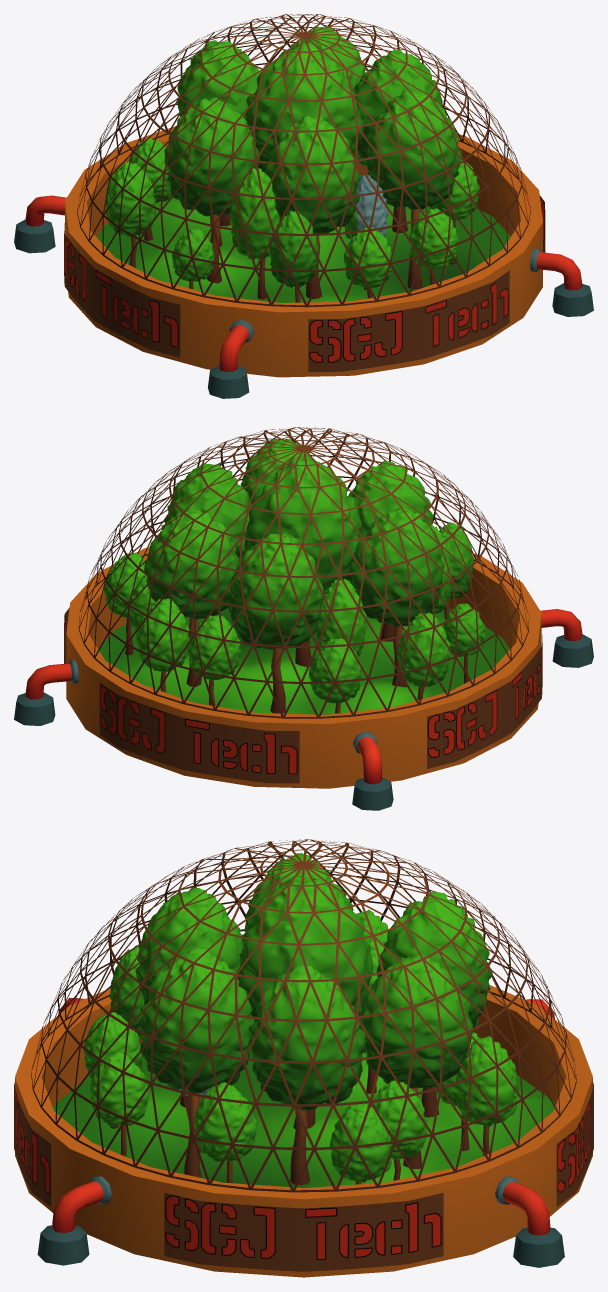
File: gydroponica.fbx
The picture shows the model from 3 angles, top to bottom: view 1: azimuth 30°, elevation 25°; view 2: azimuth 150°, elevation 25°; view 3: azimuth 270°, elevation 25°; orthographic projection. The views are drawn at different scales.
Parts seen in each view (by area): view 1: pPlane11; view 2: pPlane11; view 3: pPlane11.
Boxes of the visible parts, left/top/right/bottom form: pPlane11: left=14, top=14, right=593, bottom=398; pPlane11: left=14, top=427, right=593, bottom=810; pPlane11: left=14, top=839, right=593, bottom=1277.
Size of the model in its own units: 67.51 by 37.11 by 67.28.
Materials: 2 (2 with a texture image).
